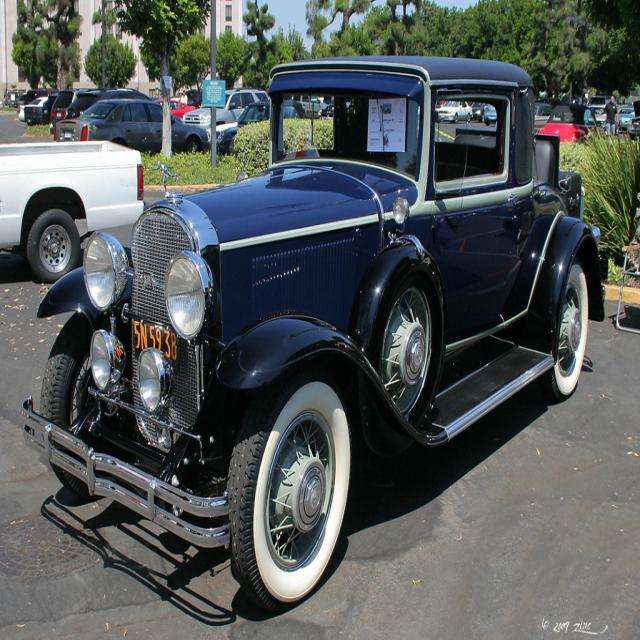car: (22, 51, 607, 613)
